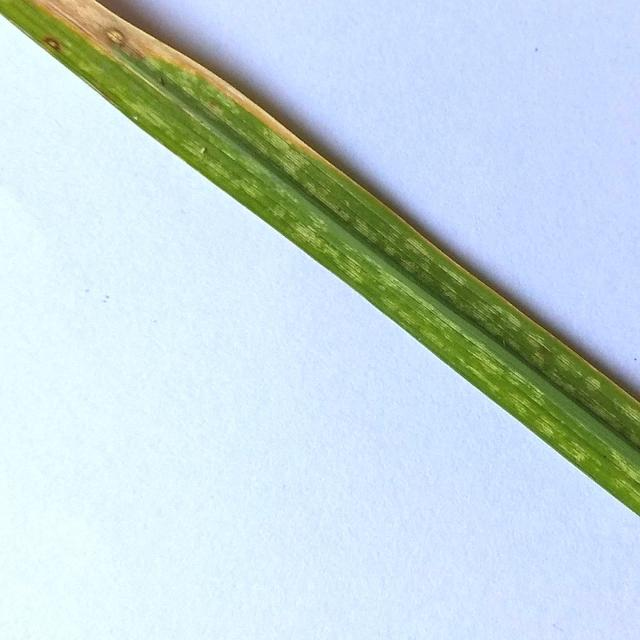Leaf blast: (4, 1, 640, 519)
